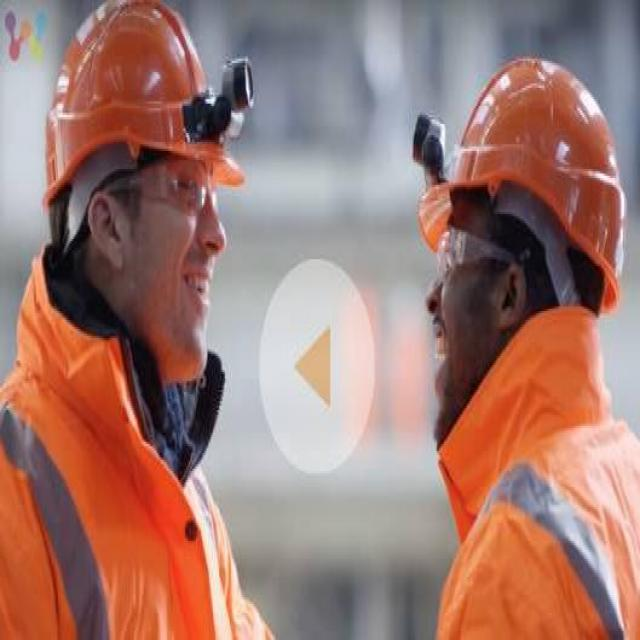Reflective-Jacket: (3, 275, 240, 640), (423, 324, 636, 640)
Safety-Helmet: (432, 45, 633, 304), (34, 0, 242, 212)
